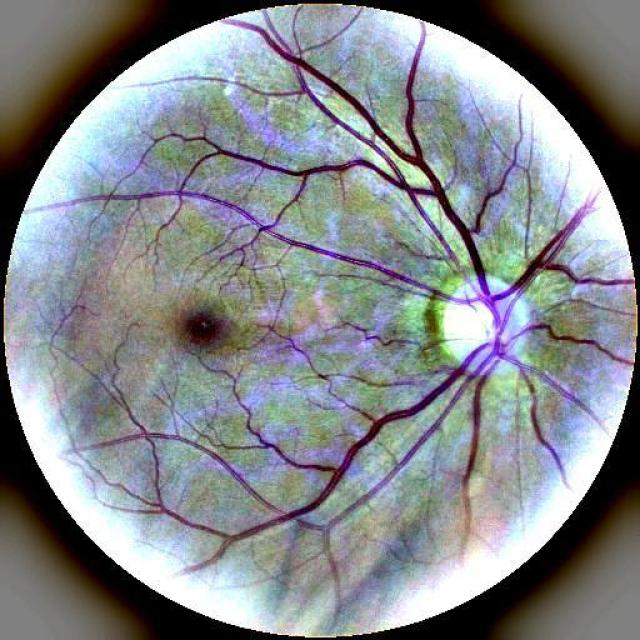Macula: (175, 299, 244, 363)
Nerves: (197, 32, 506, 306), (208, 315, 514, 564)
Optic Disk: (392, 266, 561, 395)
